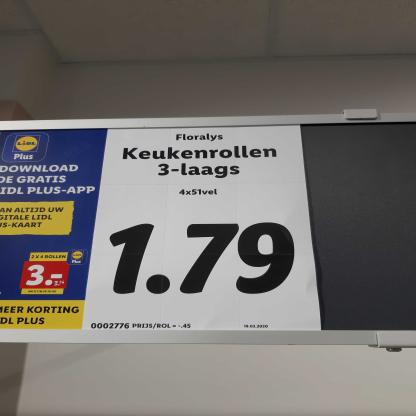prtg: (82, 126, 322, 332)
